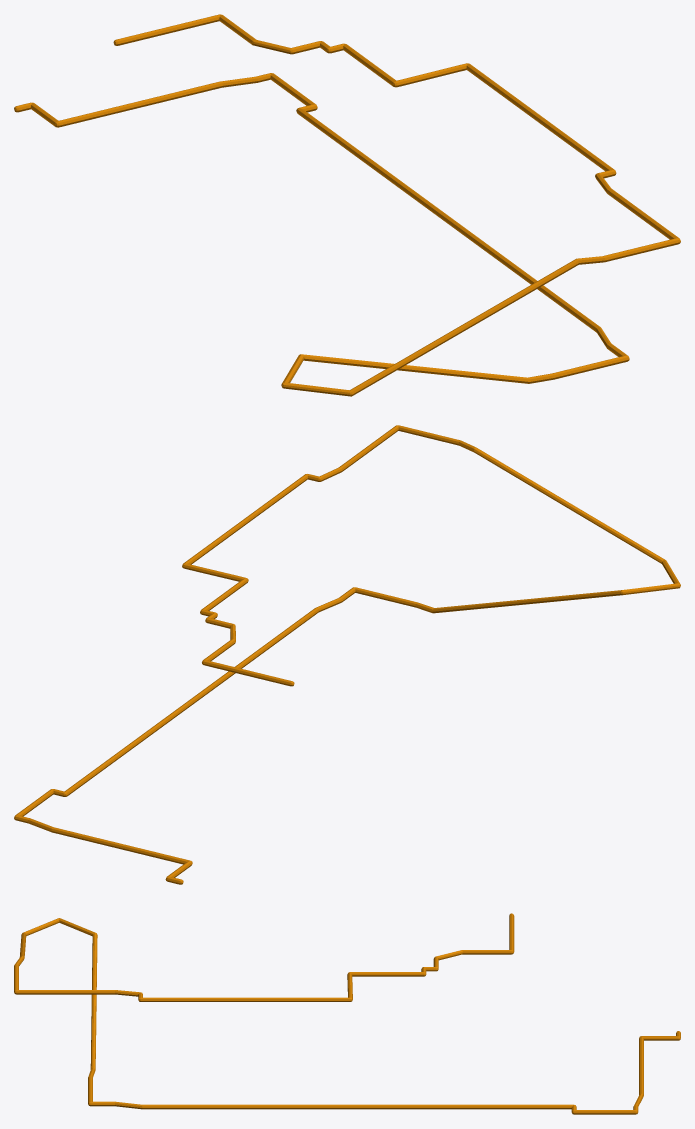
3 views of the same model, one above another, from view 1: azimuth 30°, elevation 25°; view 2: azimuth 150°, elevation 25°; view 3: azimuth 270°, elevation 25° (orthographic). The views are drawn at different scales.
Size of the model in its own units: 1325 by 520 by 2704.
